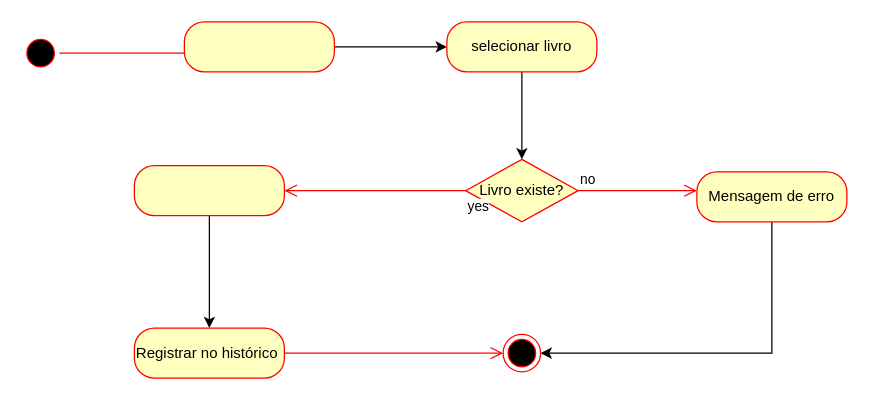
This 869x400 diagram has some shape labels left out. Each missing label, with the centre of its shape:
Registrar devolução: point 208,190
Selecionar área de devolução: point 258,46
